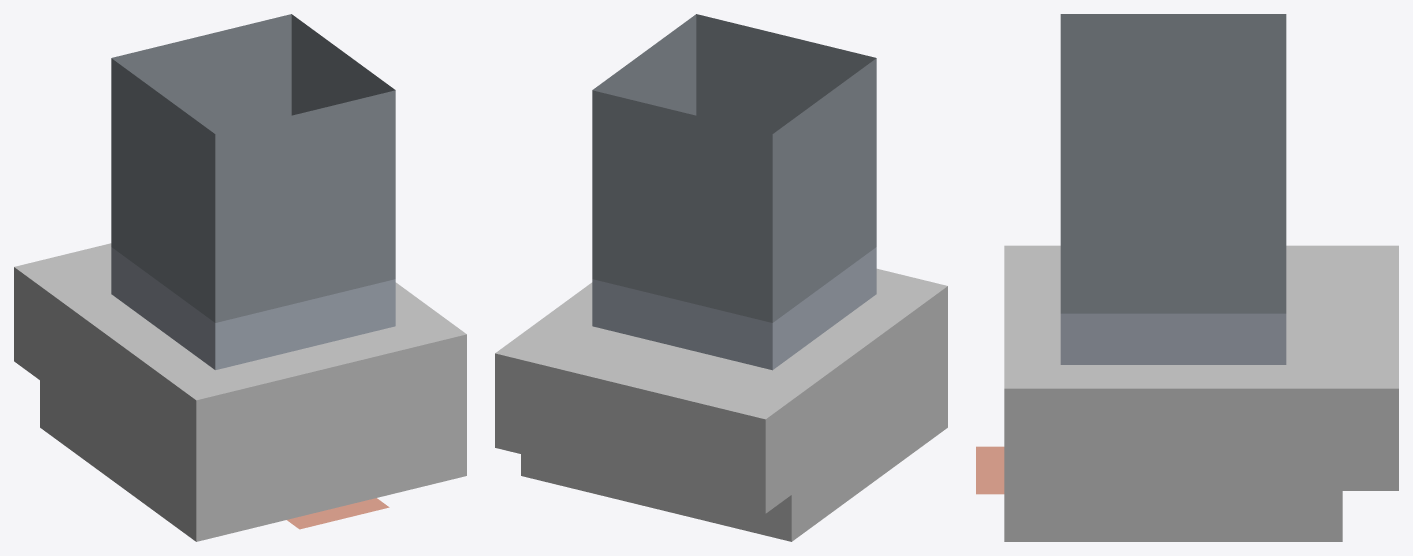
The model's file is cell_362.obj.
The picture shows the model from 3 angles, left to right: view 1: azimuth 30°, elevation 25°; view 2: azimuth 150°, elevation 25°; view 3: azimuth 270°, elevation 25°; orthographic projection. The views are drawn at different scales.
Bounding box in the file's own units: 0.75 × 1 × 0.9375.
